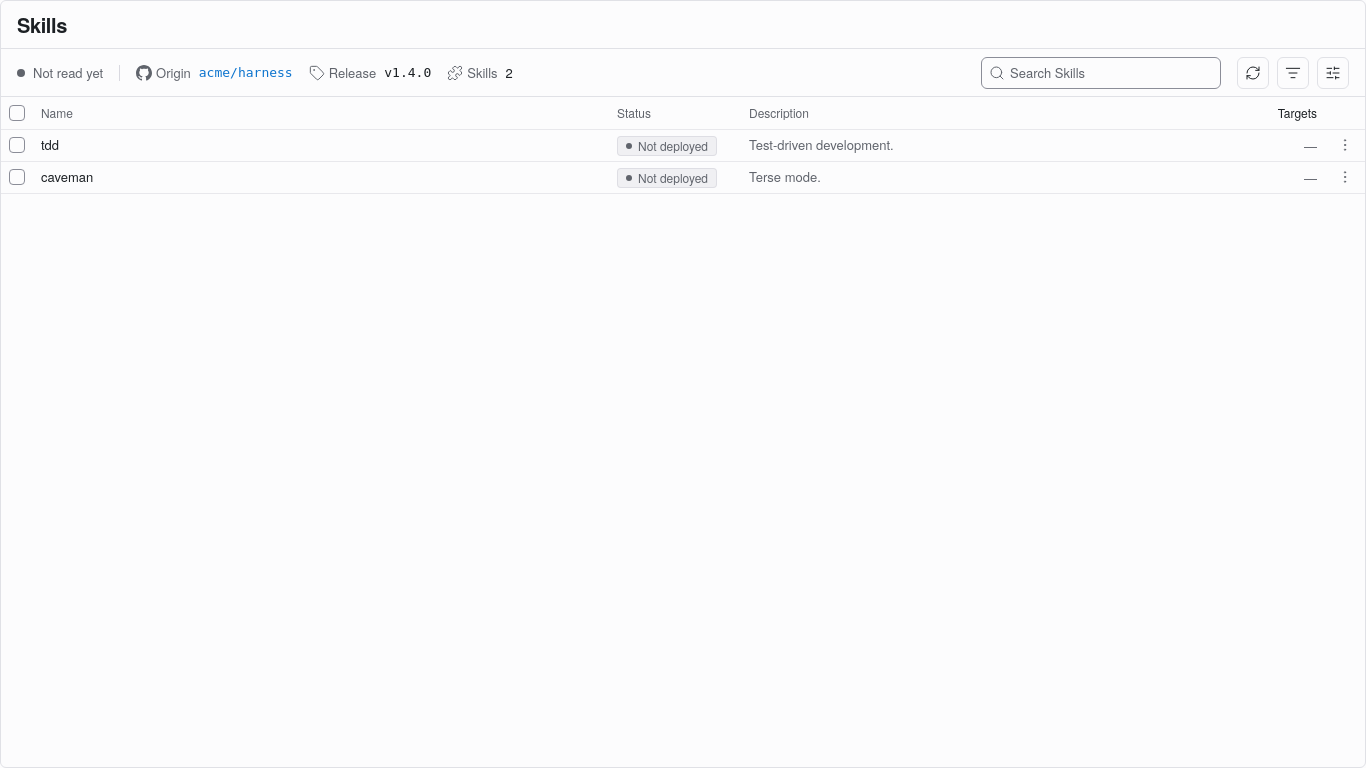
Scenario: SkillsView — band 2 › narrows the table to skills whose name matches the search text
The width and height of the screenshot is (1366, 768).
Type "cave" into the search field labelled "Search Skills".
click(1101, 72); type("cave")  # box 981,56 -> 1221,88
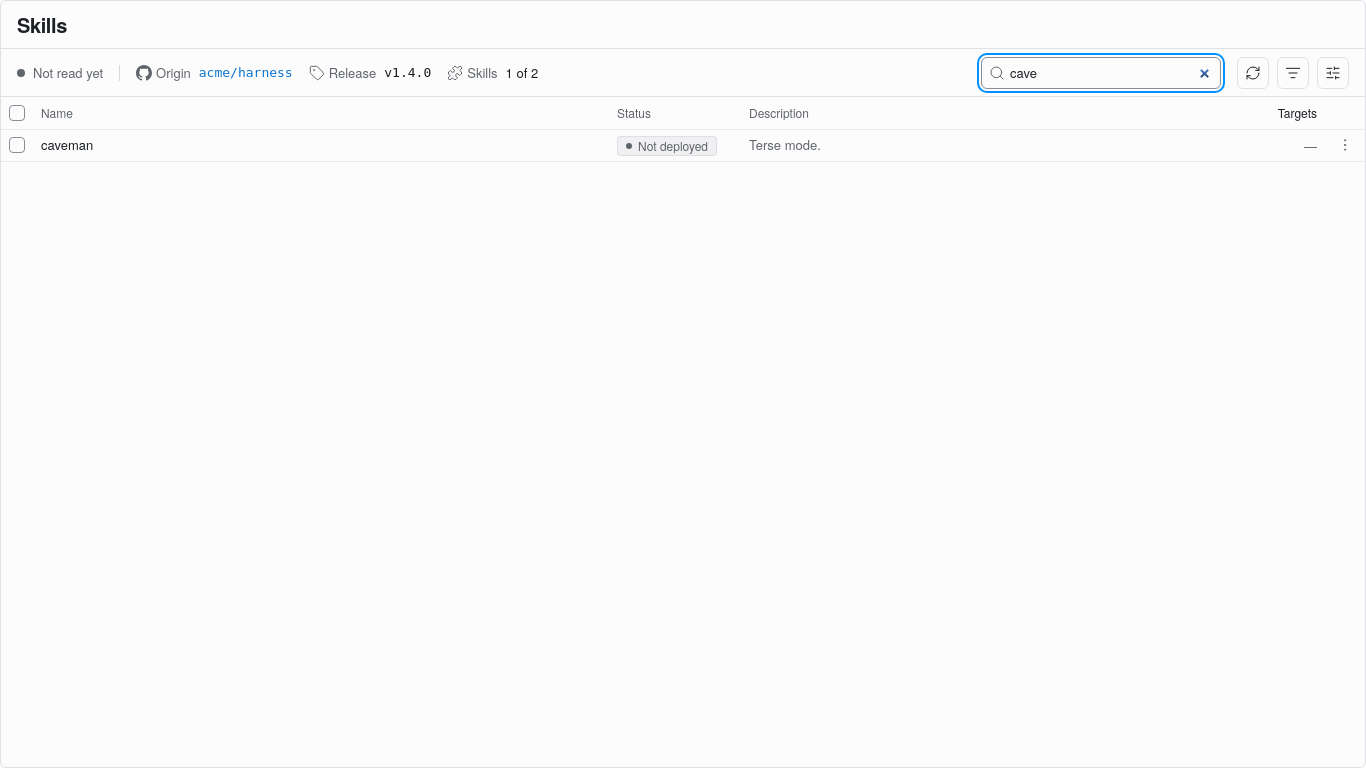
Expected: the cell "caveman" is shown, 33,129 -> 609,161
Now the text "tdd" is gone
